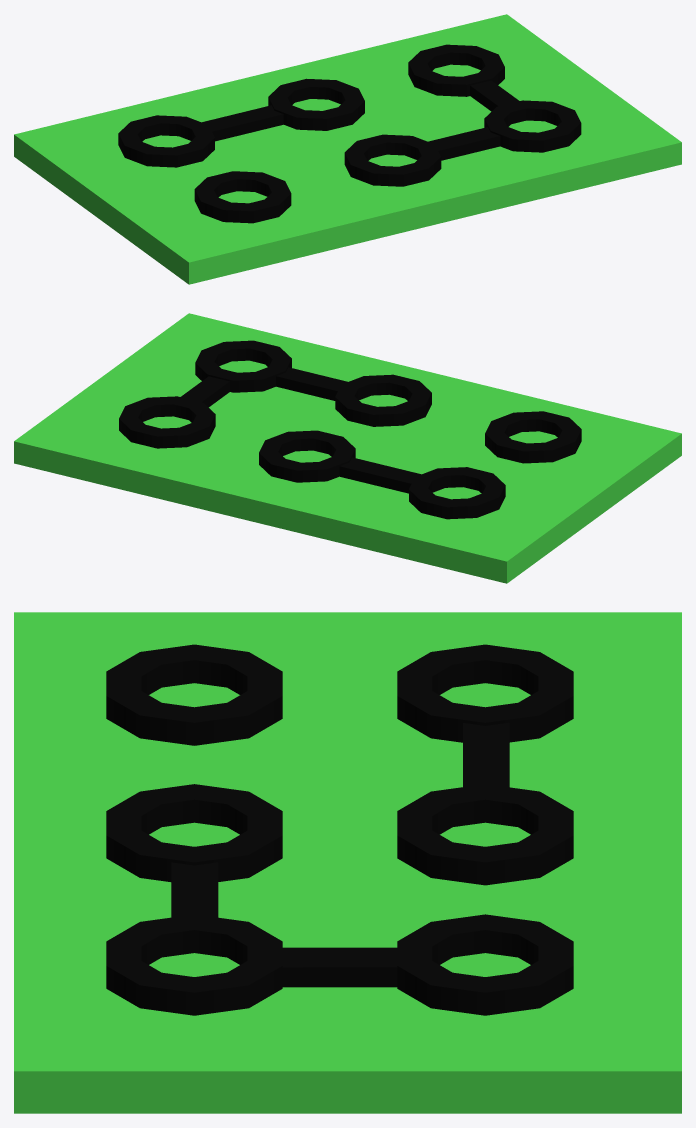
File: CircuitBoardSmall.fbx
The picture shows the model from 3 angles, top to bottom: view 1: azimuth 30°, elevation 25°; view 2: azimuth 150°, elevation 25°; view 3: azimuth 270°, elevation 25°; orthographic projection. The views are drawn at different scales.
Parts seen in each view (by area): view 1: CircuitBoardSmall; view 2: CircuitBoardSmall; view 3: CircuitBoardSmall.
Boxes of the visible parts, x1,y1,x2,y2 form: CircuitBoardSmall: [14, 14, 681, 284]; CircuitBoardSmall: [14, 313, 681, 583]; CircuitBoardSmall: [14, 612, 681, 1113].
Size of the model in its own units: 58.54 by 3.88 by 36.
